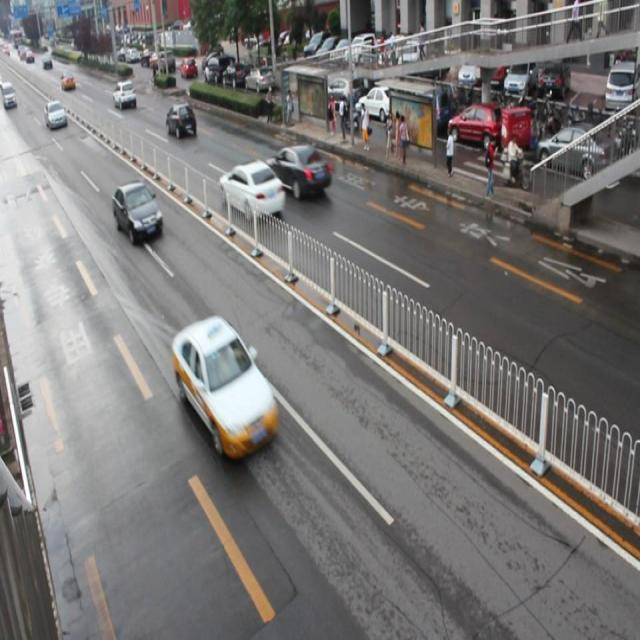car: (171, 316, 279, 460), (218, 160, 285, 222), (264, 142, 332, 200), (112, 179, 163, 243), (166, 102, 197, 140)
